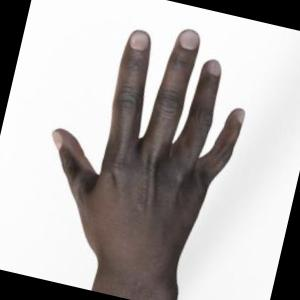paper: (52, 29, 244, 300)
